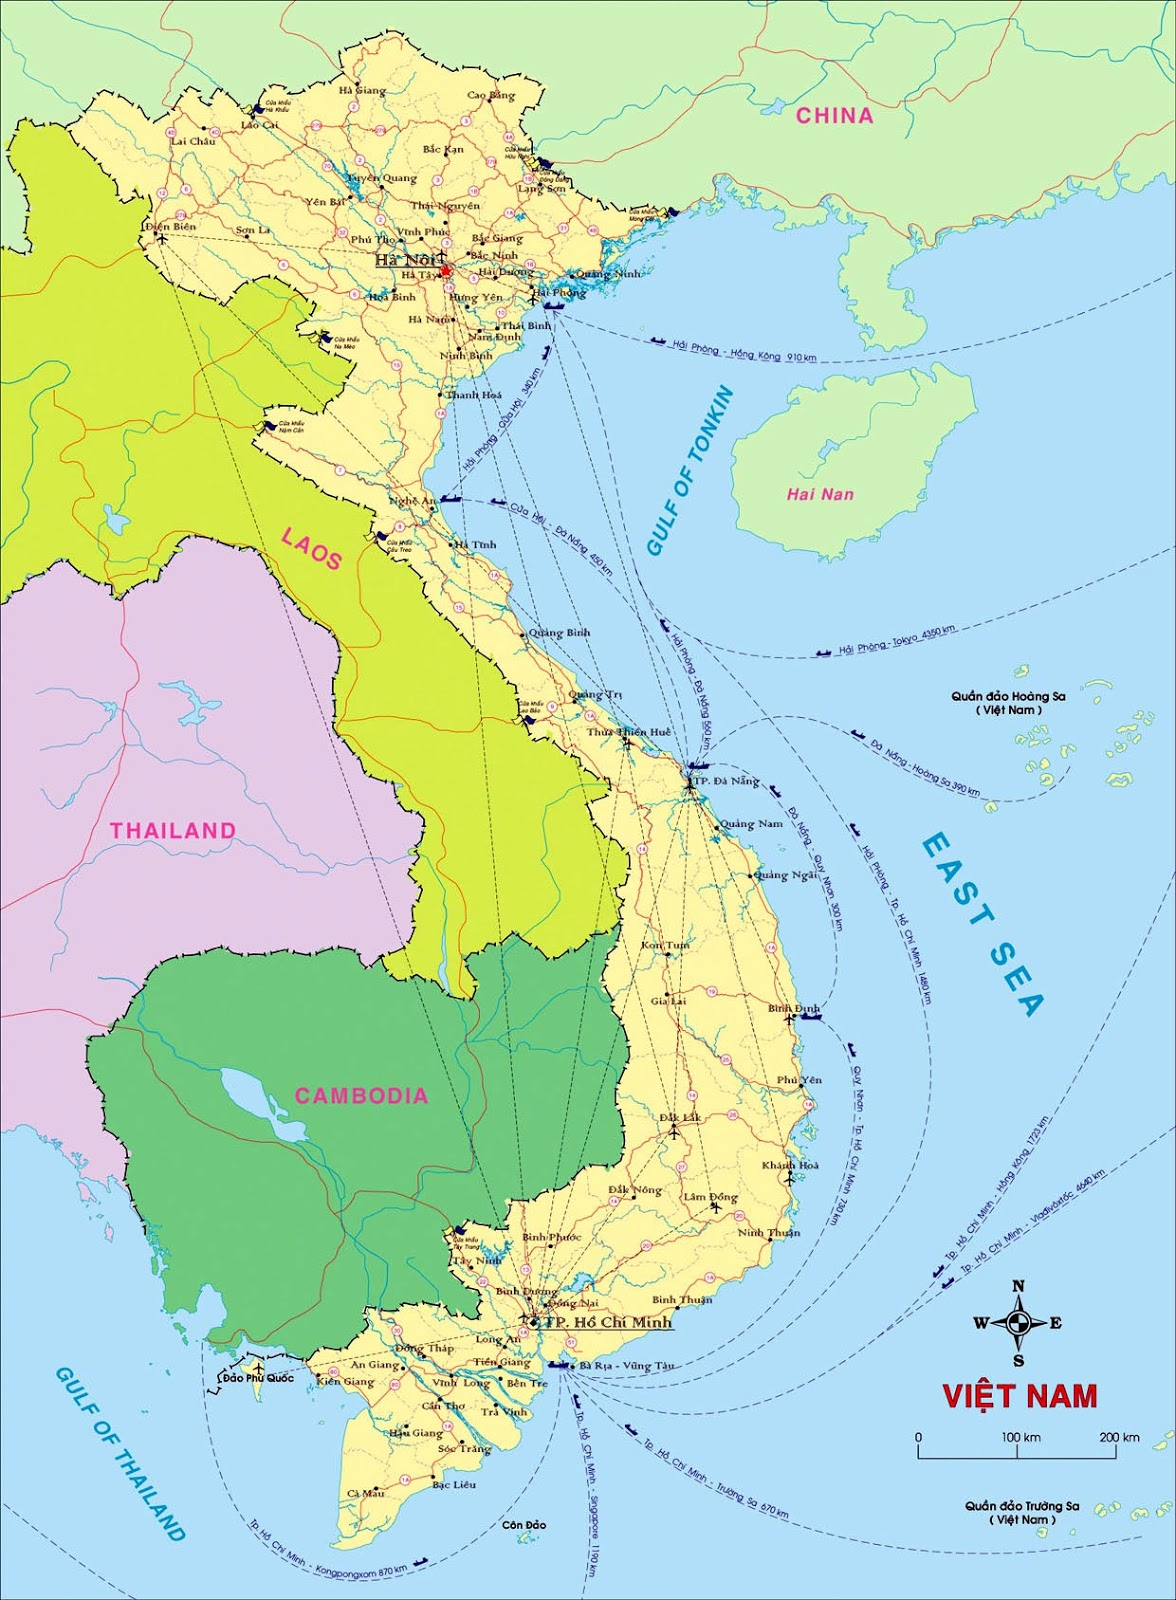Island: (928, 643, 1162, 821), (955, 1480, 1169, 1555)
